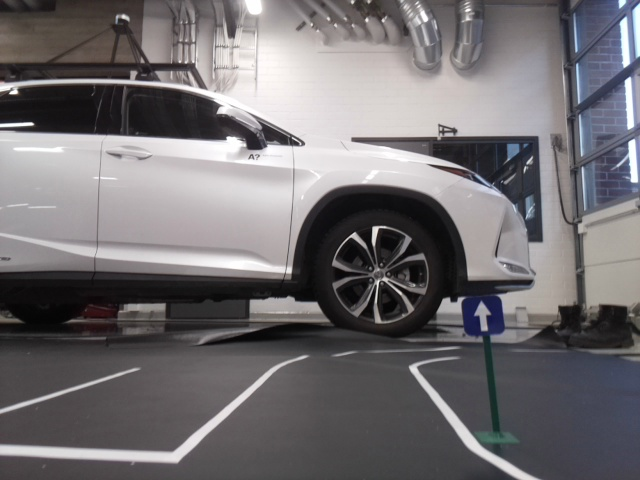OneWay: (461, 297, 506, 335)
